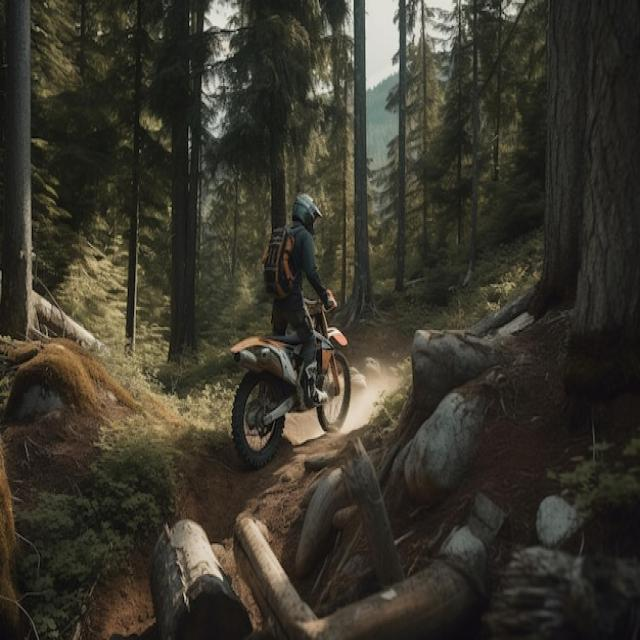Bike: (230, 292, 352, 471)
